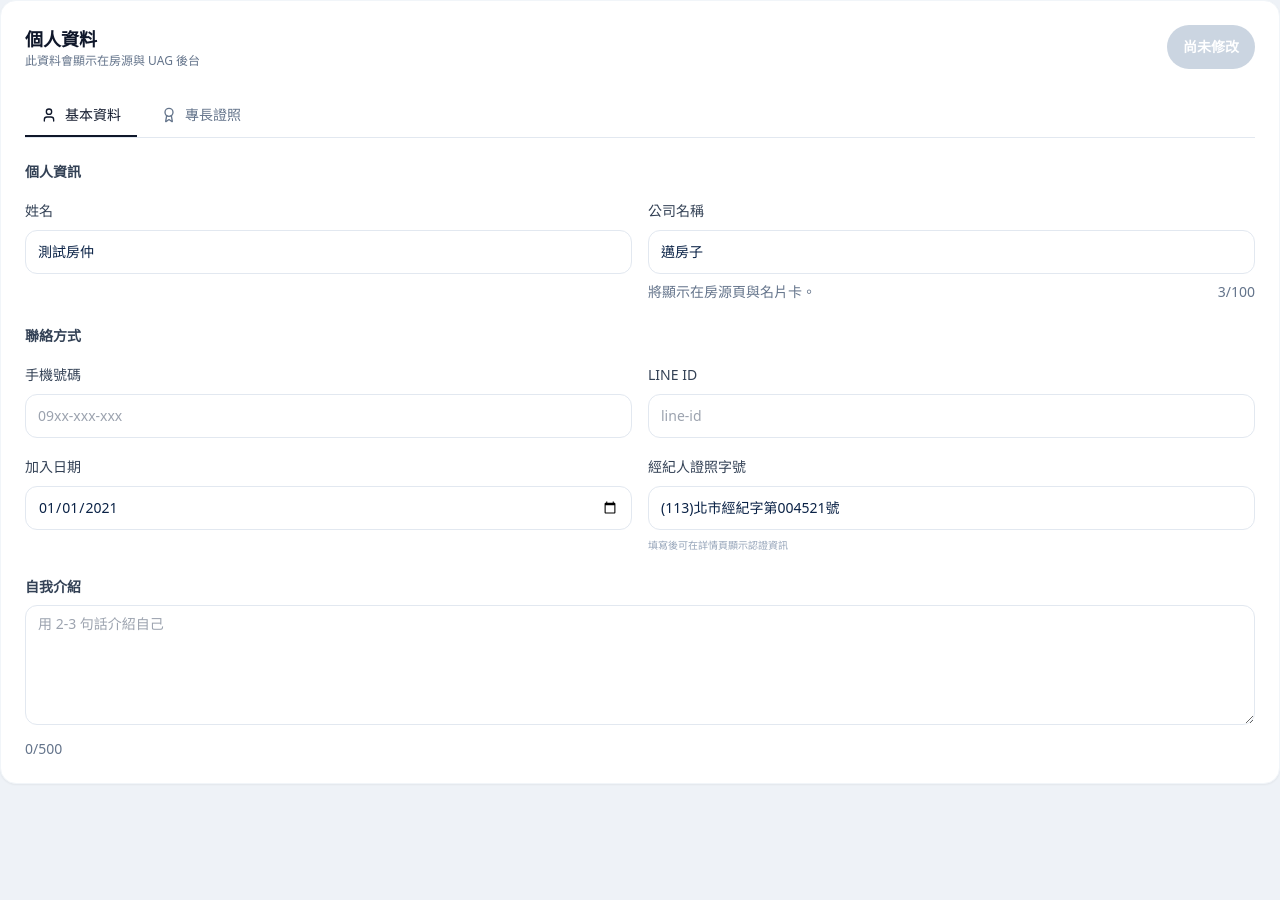
Scenario: BasicInfoSection (#15) › shows bio character counter
This screenshot has width=1280, height=900.
Expected: the text "0/500" is shown, [25, 739, 62, 758]
Type "hello" into the text box named "自我介紹" at (640, 665), box [25, 605, 1255, 725]
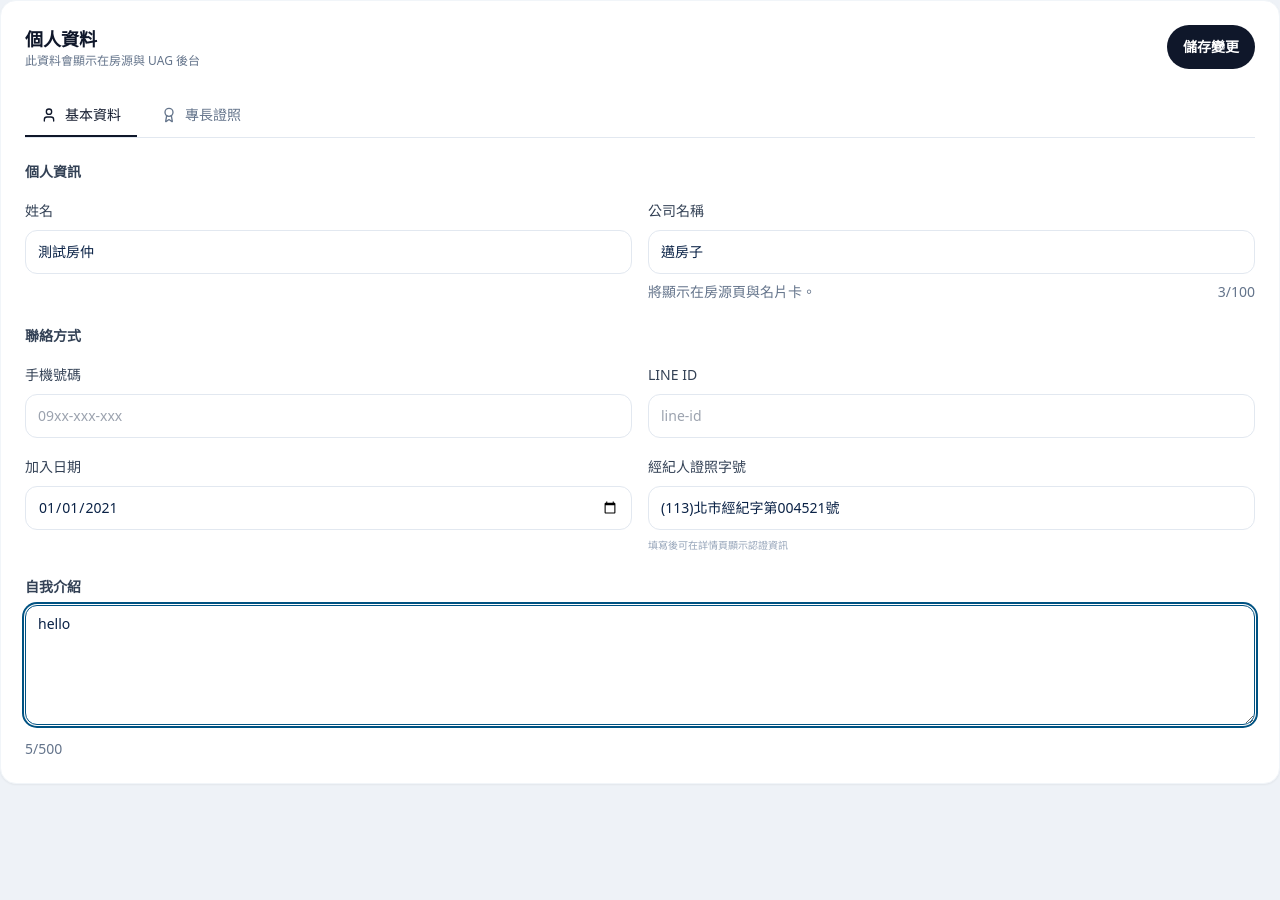
Now the text "5/500" is shown, box [25, 739, 62, 758]
